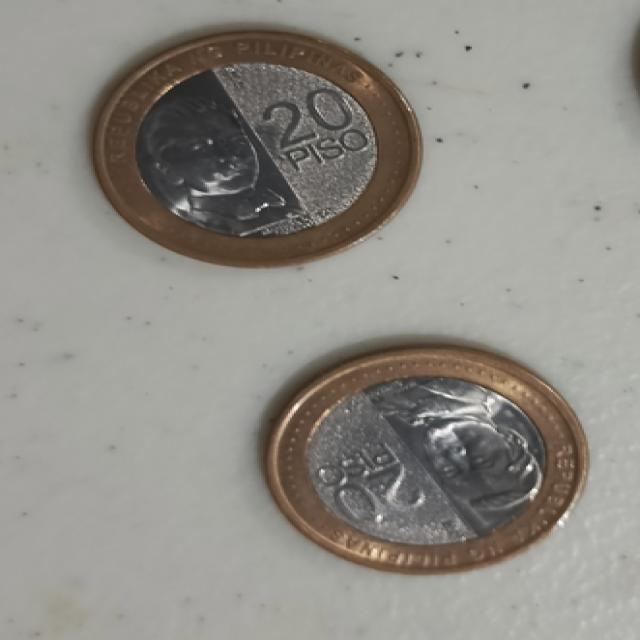20_peso: (95, 33, 418, 266), (269, 346, 584, 574)
